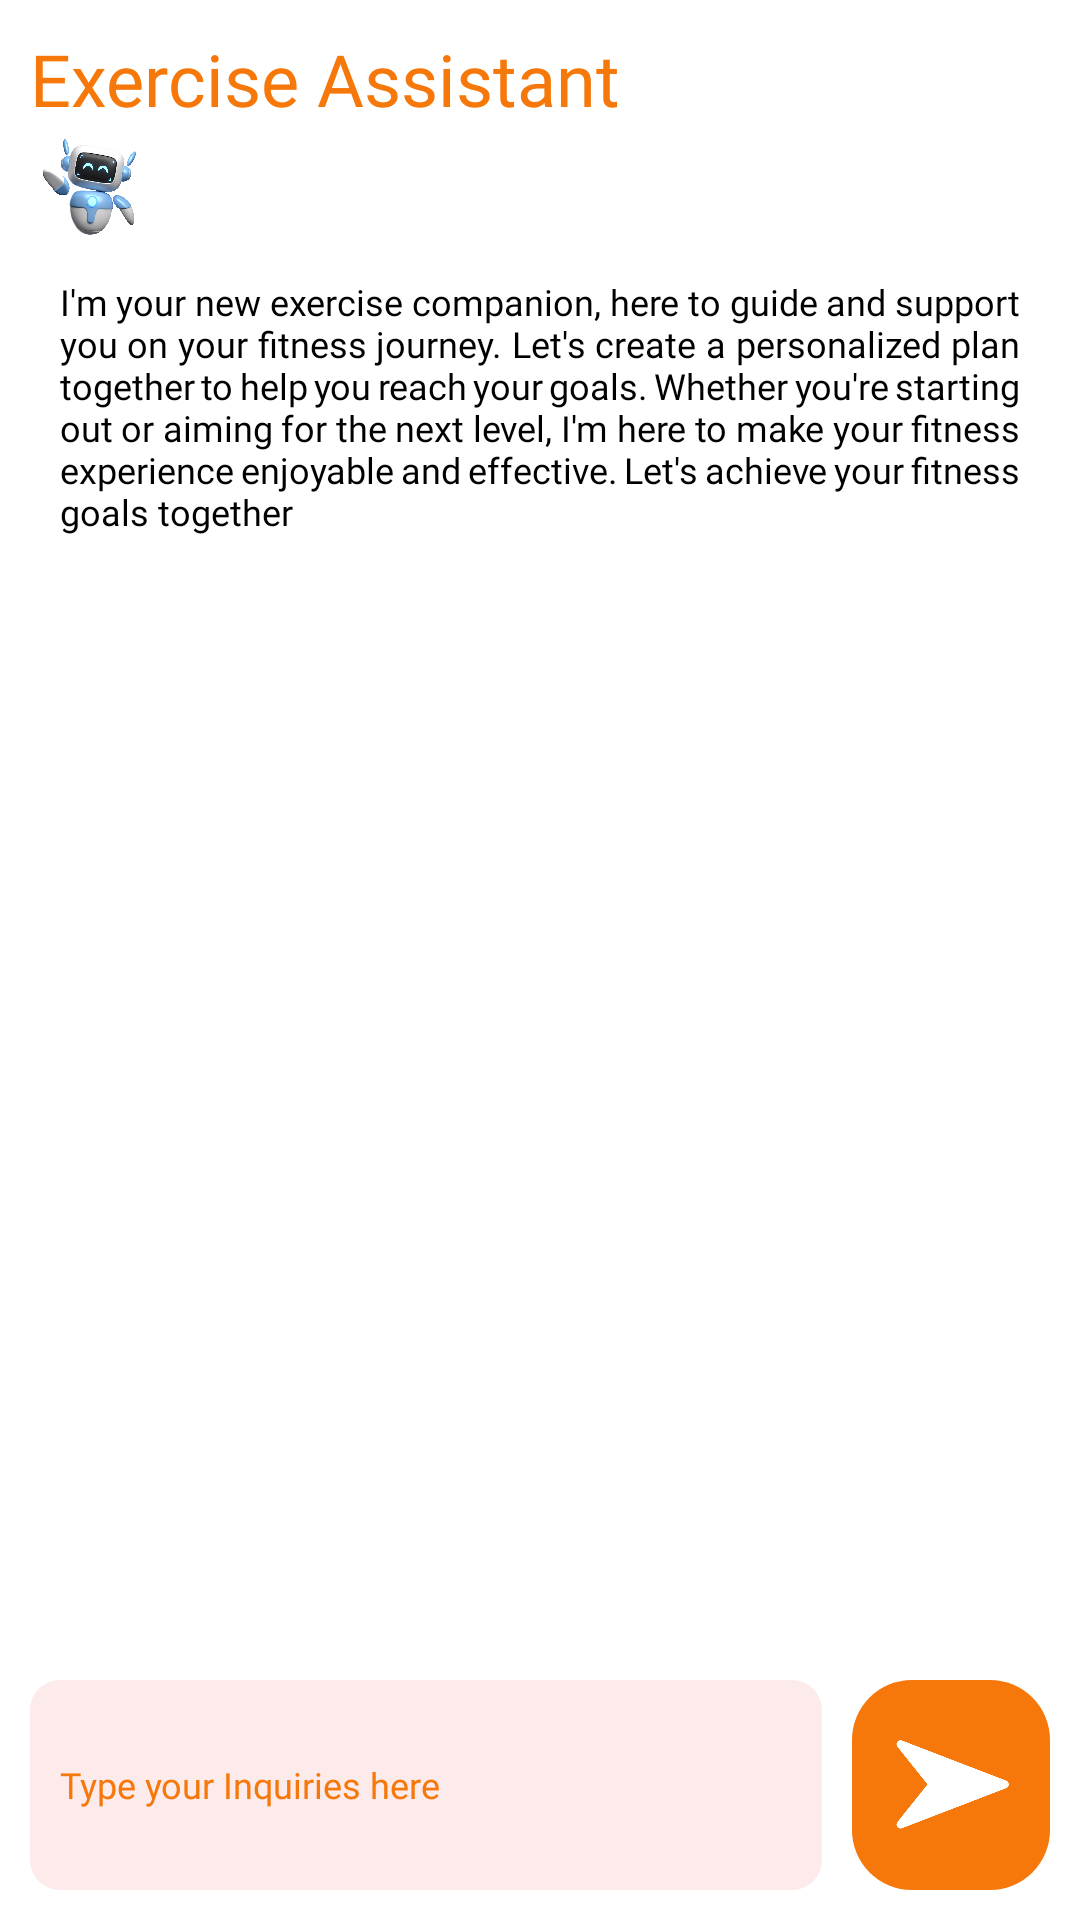

Icons on this 1080px x 1920px Android screen, each with its box as detection(x1, y1, x2, y2):
aihelper: detection(43, 139, 136, 235)
Submit AI Inquiry: detection(852, 1680, 1050, 1890)
